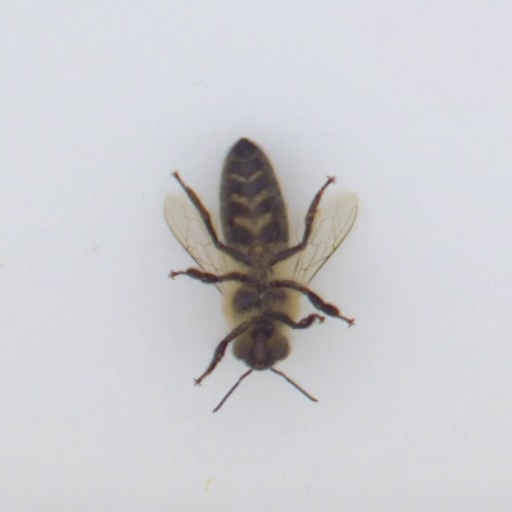Bee: (206, 131, 307, 376)
